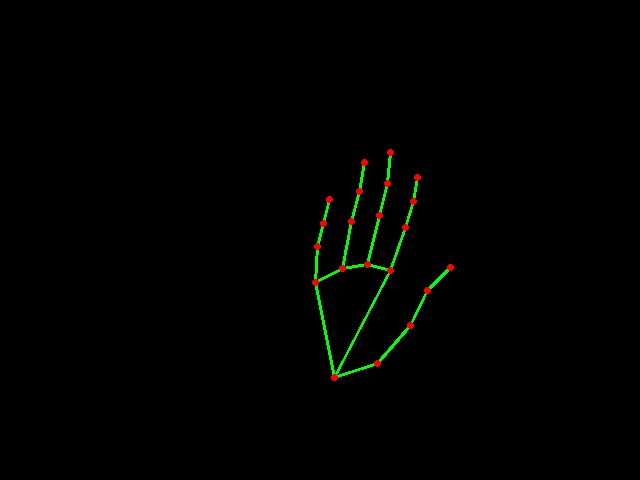stop: (302, 143, 464, 395)
